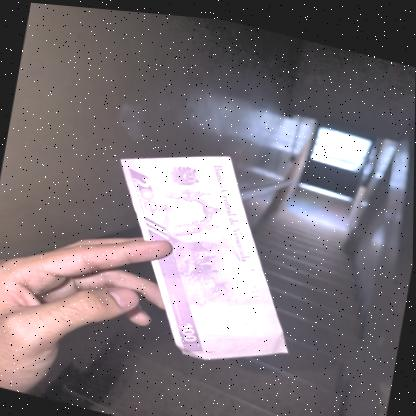one_hundred-back-vef: (89, 125, 320, 375)
